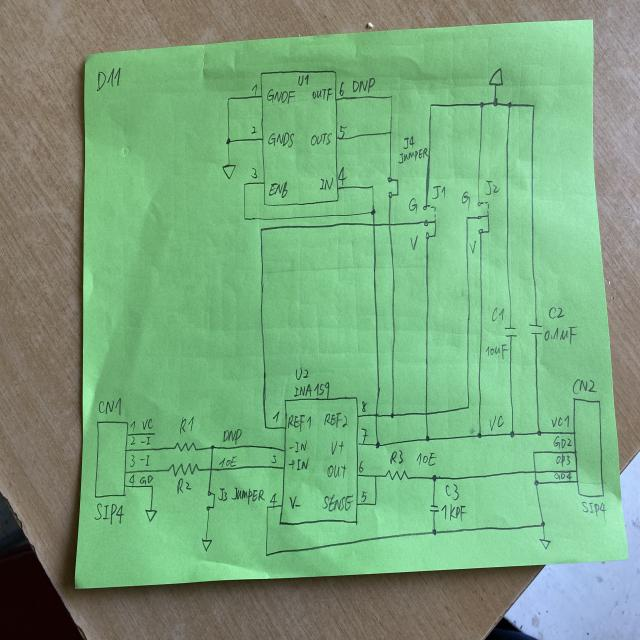capacitor: (528, 322, 544, 335), (503, 325, 518, 338), (429, 504, 440, 514)
crossover: (370, 220, 377, 230), (373, 411, 380, 419), (532, 467, 538, 475), (423, 410, 429, 417), (387, 221, 392, 228), (209, 467, 213, 473)
ground: (222, 162, 236, 180), (201, 536, 213, 552), (145, 508, 157, 522), (539, 537, 551, 550)
junction: (430, 527, 438, 537), (478, 100, 486, 110), (492, 97, 499, 107), (225, 136, 232, 146), (242, 180, 248, 191), (374, 440, 381, 449), (506, 101, 513, 110), (536, 428, 543, 437), (432, 473, 438, 483), (530, 102, 537, 110), (532, 449, 538, 458), (370, 207, 376, 215), (540, 520, 546, 528), (264, 550, 270, 558), (476, 431, 482, 439), (209, 443, 215, 451), (262, 423, 268, 431), (389, 411, 395, 419), (534, 479, 540, 487), (424, 434, 430, 442), (226, 95, 232, 103), (372, 500, 378, 508), (372, 472, 378, 480), (509, 430, 515, 438), (149, 483, 154, 492), (258, 226, 264, 233), (464, 214, 470, 221), (428, 102, 434, 109), (242, 215, 248, 222), (466, 403, 471, 411), (265, 504, 270, 511), (389, 94, 394, 100), (388, 129, 392, 136), (370, 184, 374, 190)
resistor: (168, 461, 198, 476), (384, 468, 410, 482), (174, 441, 197, 454)
source: (488, 67, 504, 87)
switch: (421, 203, 439, 242), (475, 201, 492, 236), (386, 176, 399, 198), (205, 490, 216, 512)
terminal: (572, 396, 605, 498), (94, 420, 130, 500)
text: (544, 325, 578, 345), (578, 500, 608, 522), (94, 502, 124, 524), (321, 493, 354, 513), (294, 381, 330, 399), (231, 486, 265, 502), (440, 503, 468, 522), (350, 76, 377, 95), (266, 88, 296, 105), (287, 414, 311, 434), (97, 397, 122, 416), (398, 148, 428, 163), (267, 132, 295, 148), (485, 344, 509, 361), (572, 378, 597, 394), (324, 412, 349, 428), (222, 428, 244, 446), (177, 415, 195, 435), (268, 180, 288, 198), (312, 86, 333, 102), (288, 456, 309, 472), (310, 132, 332, 147), (175, 476, 192, 495), (288, 438, 308, 454), (415, 451, 436, 466), (326, 464, 347, 479), (445, 482, 460, 502), (488, 414, 504, 432), (218, 455, 238, 469), (484, 180, 501, 196), (490, 306, 506, 322), (431, 184, 446, 201), (551, 435, 566, 451), (389, 449, 404, 465), (294, 366, 310, 381), (548, 306, 565, 320), (330, 439, 344, 456), (140, 417, 154, 432), (402, 135, 416, 149), (319, 177, 334, 190), (288, 494, 300, 510), (550, 416, 563, 430), (138, 454, 152, 467), (360, 426, 369, 446), (408, 197, 418, 214), (137, 474, 154, 484), (338, 167, 347, 184), (409, 234, 418, 251), (461, 190, 471, 205), (298, 74, 310, 86), (218, 488, 228, 502), (138, 436, 152, 446), (552, 471, 565, 481), (563, 414, 571, 430), (555, 454, 565, 466), (338, 125, 346, 140), (272, 410, 280, 424), (360, 491, 369, 503), (358, 459, 365, 474), (250, 166, 258, 179), (128, 473, 136, 485), (251, 84, 259, 96), (270, 492, 276, 508), (469, 240, 476, 253), (129, 455, 136, 468), (129, 435, 137, 446), (361, 400, 367, 414), (566, 470, 573, 482), (339, 80, 344, 95), (566, 436, 572, 448), (565, 454, 571, 466), (272, 454, 277, 467), (250, 126, 258, 134), (130, 419, 135, 431)
